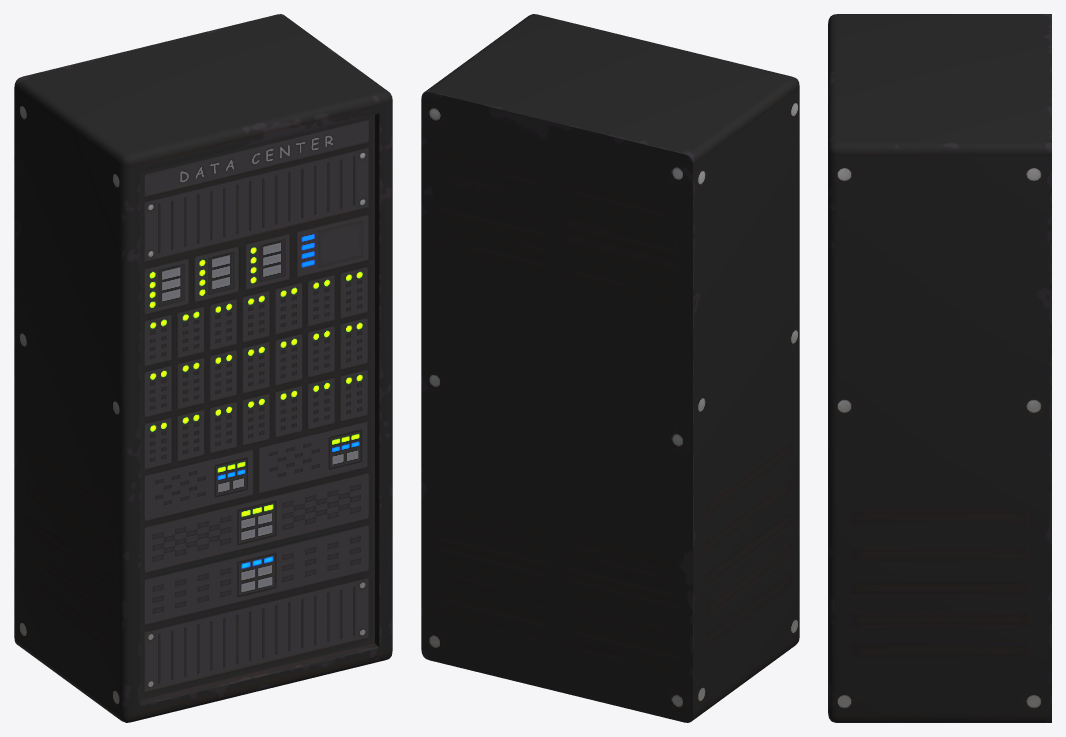
The model's file is Pfb_Server__6.fbx.
The picture shows the model from 3 angles, left to right: view 1: azimuth 30°, elevation 25°; view 2: azimuth 150°, elevation 25°; view 3: azimuth 270°, elevation 25°; orthographic projection.
Visible parts, largest first — view 1: OfficeServer01B; view 2: OfficeServer01B; view 3: OfficeServer01B.
Part boxes in pixels (bbox=[...]): OfficeServer01B: bbox=[14, 14, 392, 722]; OfficeServer01B: bbox=[421, 14, 799, 722]; OfficeServer01B: bbox=[828, 14, 1051, 722].
Bounding box in the file's own units: 1 × 2 × 0.7.
Materials: 1 (1 with a texture image).
